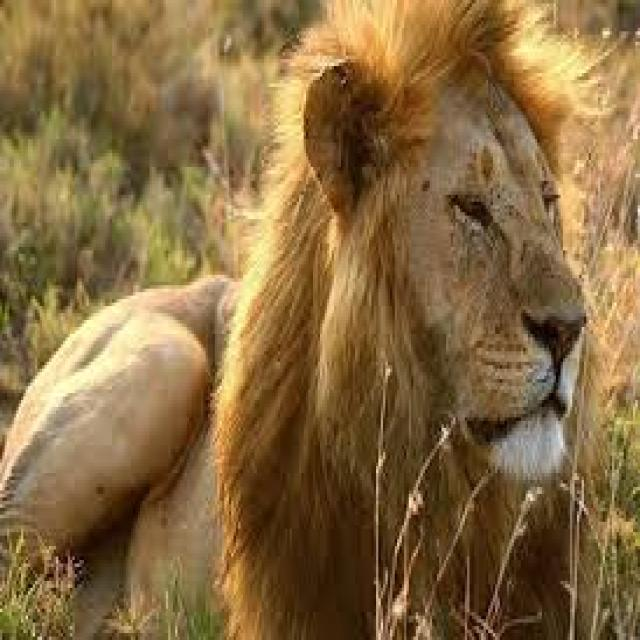Carnivorous: (0, 0, 586, 640)
